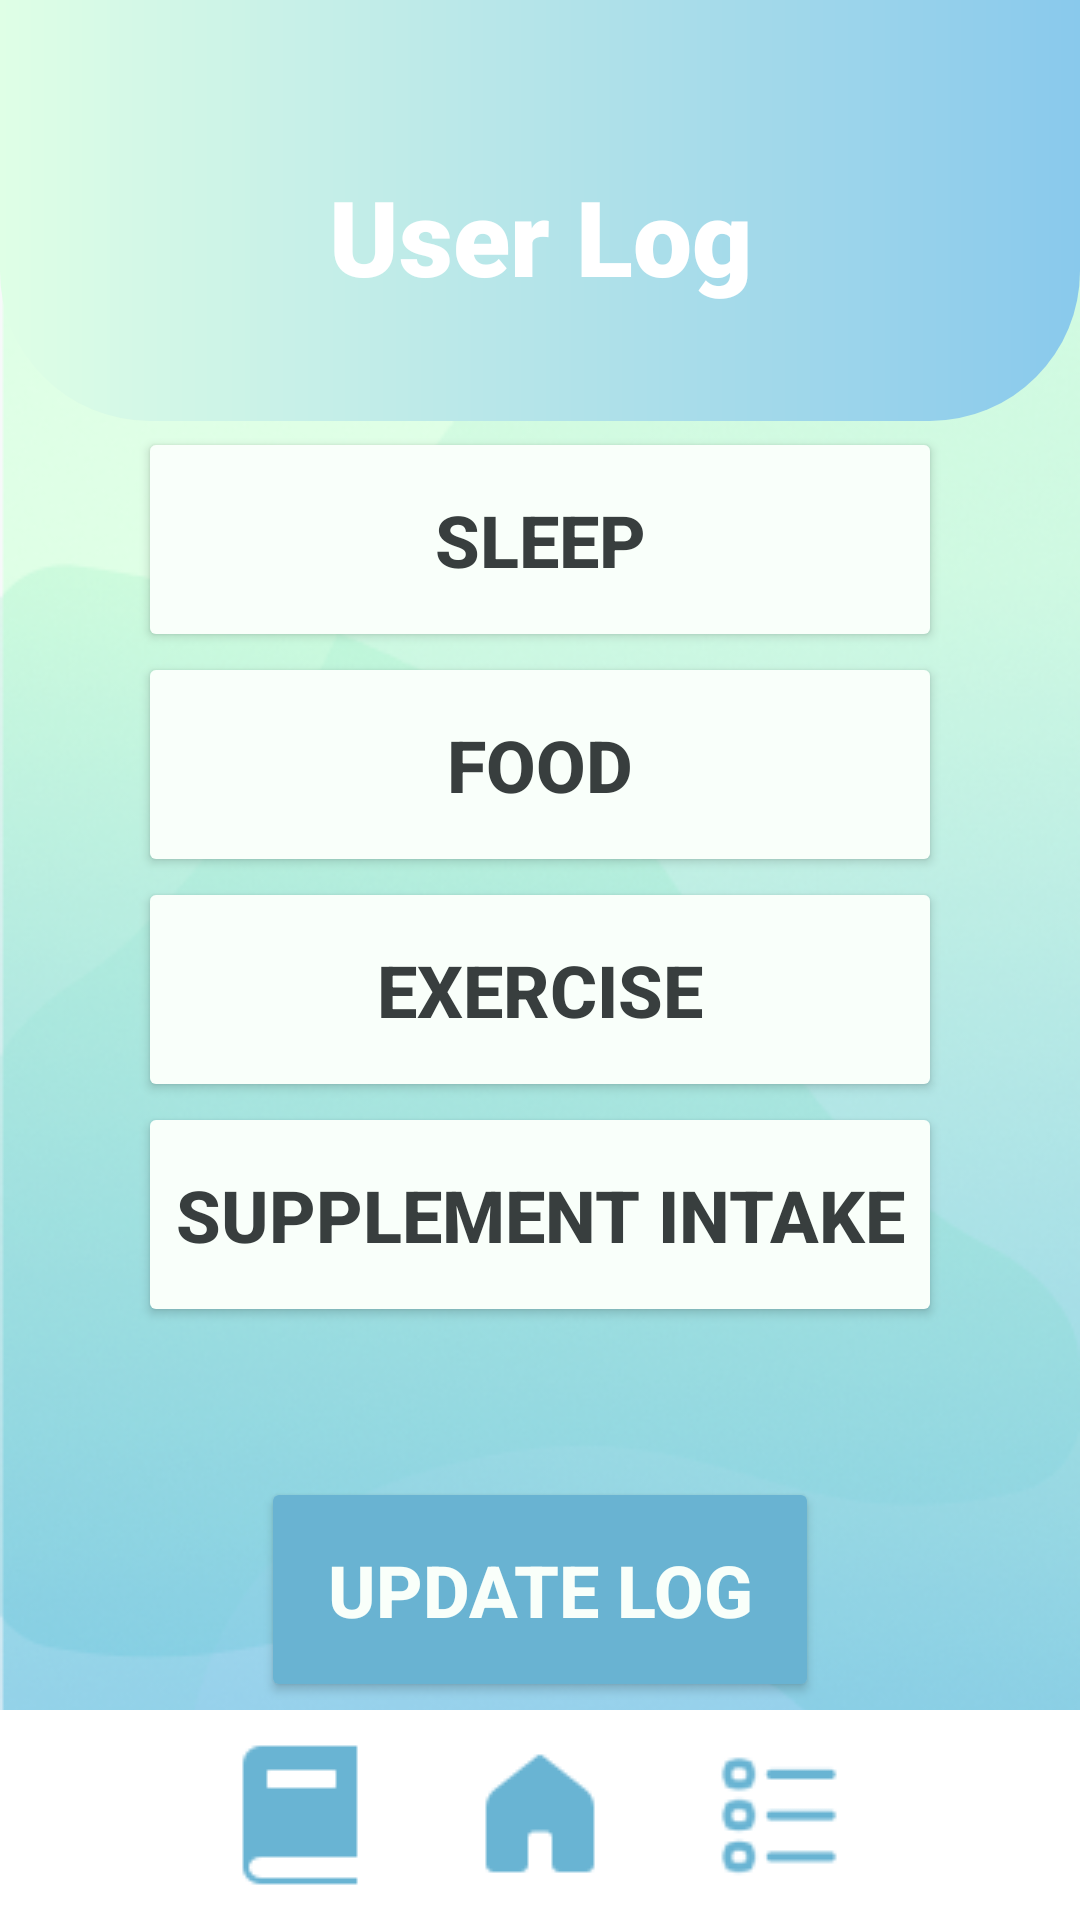

Where to tap for icons on this 1080px x 1920px app screen, as point (x, y):
book: point (300, 1815)
home: point (540, 1813)
